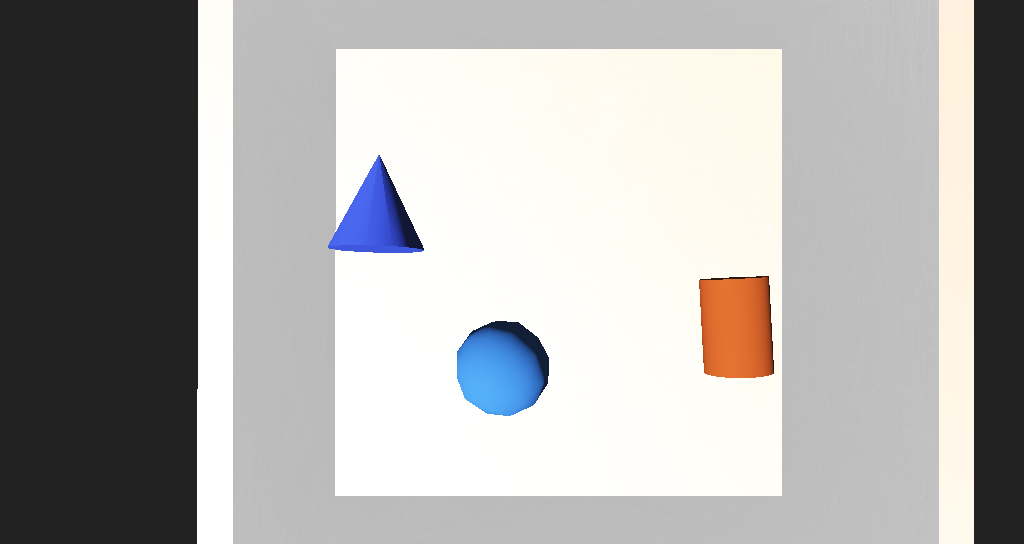cone: (596, 267, 657, 315)
cylinder: (347, 210, 421, 258)
sphere: (431, 293, 499, 336)
